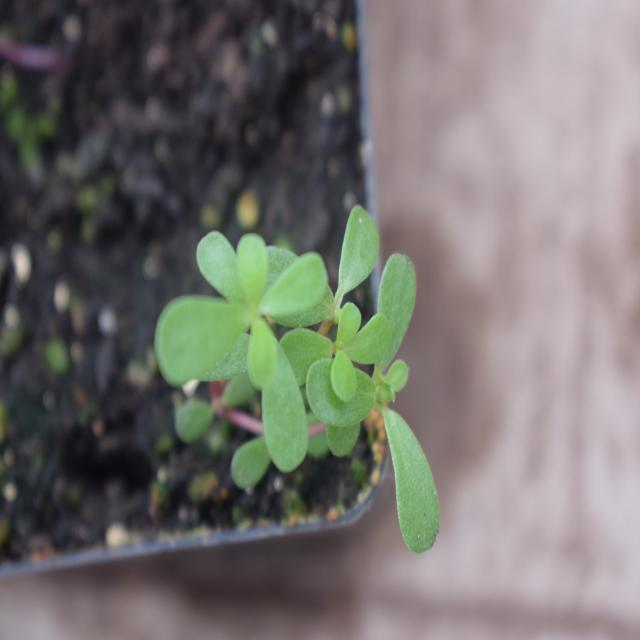purslane: (150, 212, 459, 550)
